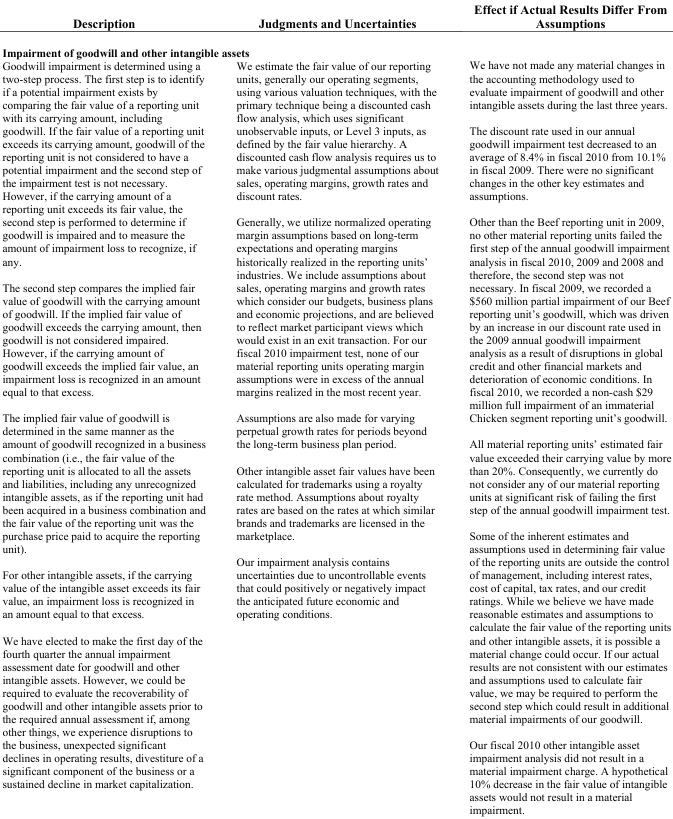table: (1, 1, 670, 815)
table column: (220, 1, 453, 815), (1, 1, 220, 815), (453, 1, 670, 815)
table column header: (1, 1, 670, 37)
table projected row header: (1, 37, 670, 58)
table row: (1, 58, 670, 815), (1, 1, 670, 37), (1, 37, 670, 58)
